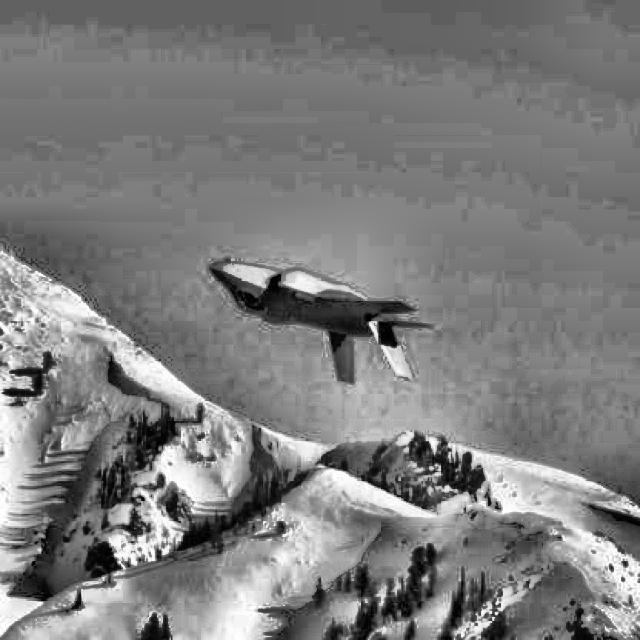F35: (208, 257, 434, 385)
